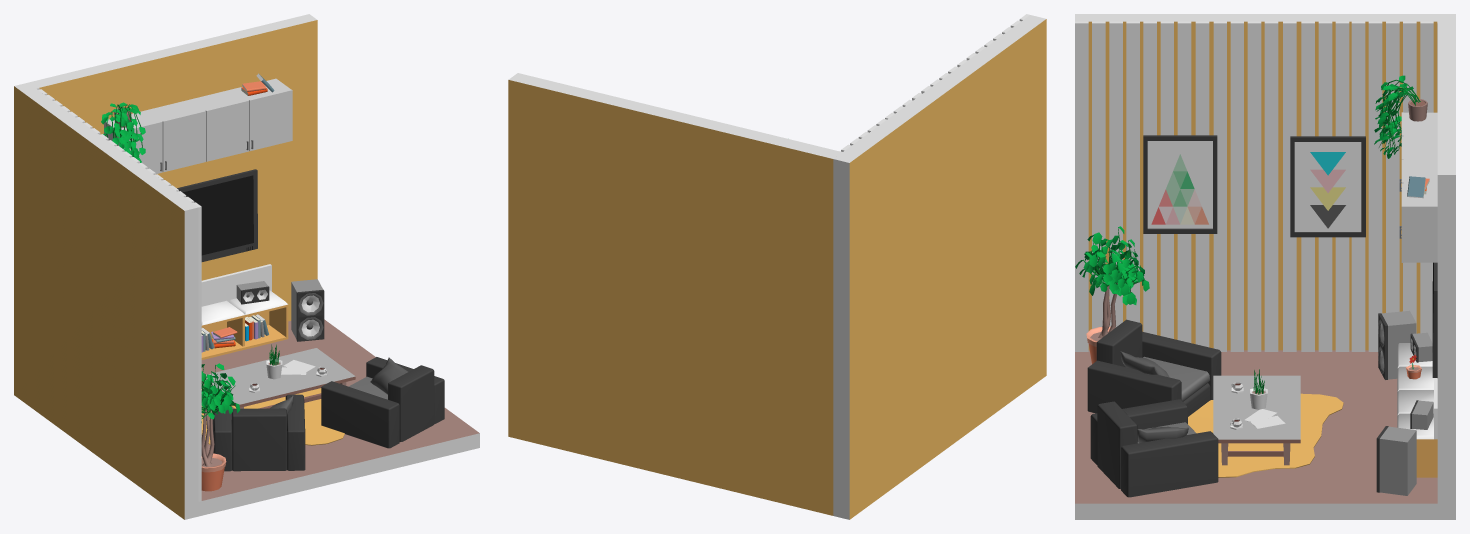
Rendered from room_28.glb.
3 renders of one model, left to right at view 1: azimuth 30°, elevation 25°; view 2: azimuth 150°, elevation 25°; view 3: azimuth 270°, elevation 25°, orthographic. The views are drawn at different scales.
Visible parts, largest first — view 1: Walls_010.006, Walls_010.005, Walls_149.005, kitchen_item_043.001, armchair_002.005, armchair_002.004, electronics_027.010, tv_wall_002.002, coffee_table_019.006, flower_010.002, musical_instrument_005.002, carpet_008.003 (+3 smaller); view 2: Walls_010.005, Walls_010.006; view 3: Walls_149.005, Walls_010.006, armchair_002.005, Walls_010.005, armchair_002.004, picture_050.001, picture_051.001, coffee_table_019.006, kitchen_item_043.001, Walls_003.046, Walls_003.047, Walls_003.055 (+28 smaller).
Boxes of the visible parts, left/top/right/bottom form: Walls_010.006: left=14, top=82, right=198, bottom=519; Walls_010.005: left=28, top=14, right=317, bottom=321; Walls_149.005: left=198, top=319, right=479, bottom=516; kitchen_item_043.001: left=104, top=78, right=292, bottom=173; armchair_002.005: left=321, top=357, right=444, bottom=448; armchair_002.004: left=212, top=394, right=305, bottom=471; electronics_027.010: left=177, top=169, right=257, bottom=261; tv_wall_002.002: left=201, top=264, right=288, bottom=359; coffee_table_019.006: left=202, top=348, right=355, bottom=408; flower_010.002: left=201, top=363, right=240, bottom=491; musical_instrument_005.002: left=291, top=279, right=324, bottom=341; carpet_008.003: left=201, top=388, right=344, bottom=445; Walls_010.005: left=508, top=73, right=842, bottom=515; Walls_010.006: left=833, top=15, right=1046, bottom=519; Walls_149.005: left=1075, top=350, right=1437, bottom=519; Walls_010.006: left=1075, top=14, right=1455, bottom=350; armchair_002.005: left=1090, top=399, right=1218, bottom=497; Walls_010.005: left=1437, top=21, right=1455, bottom=519; armchair_002.004: left=1087, top=319, right=1221, bottom=416; picture_050.001: left=1290, top=136, right=1365, bottom=237; picture_051.001: left=1143, top=135, right=1217, bottom=233; coffee_table_019.006: left=1213, top=375, right=1300, bottom=465; kitchen_item_043.001: left=1399, top=112, right=1437, bottom=262; Walls_003.046: left=1247, top=21, right=1261, bottom=351; Walls_003.047: left=1264, top=21, right=1278, bottom=351; Walls_003.055: left=1368, top=21, right=1382, bottom=351.
Size of the model in its own units: 4.2 by 4.2 by 4.2.
Materials: 1 (1 with a texture image).
